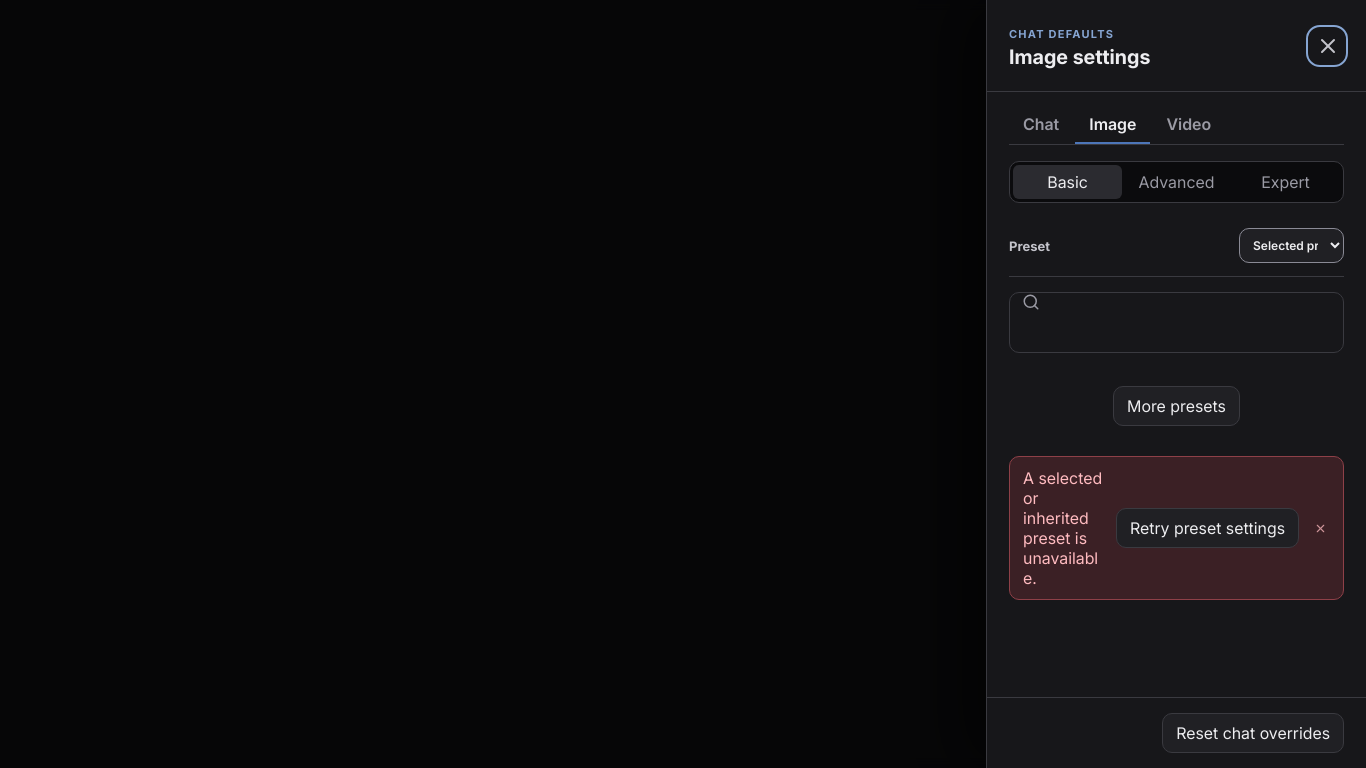
it: retains a missing selection without quietly selecting a default
Check: the text "A selected or inherited preset is unavailable." is shown, box [1023,468,1104,588]
Check: the number field labelled "Steps" is not shown
Select "Inherit · Workspace default" in the dropdown named "image preset" at point(1292, 246), box [1239,228,1344,263]
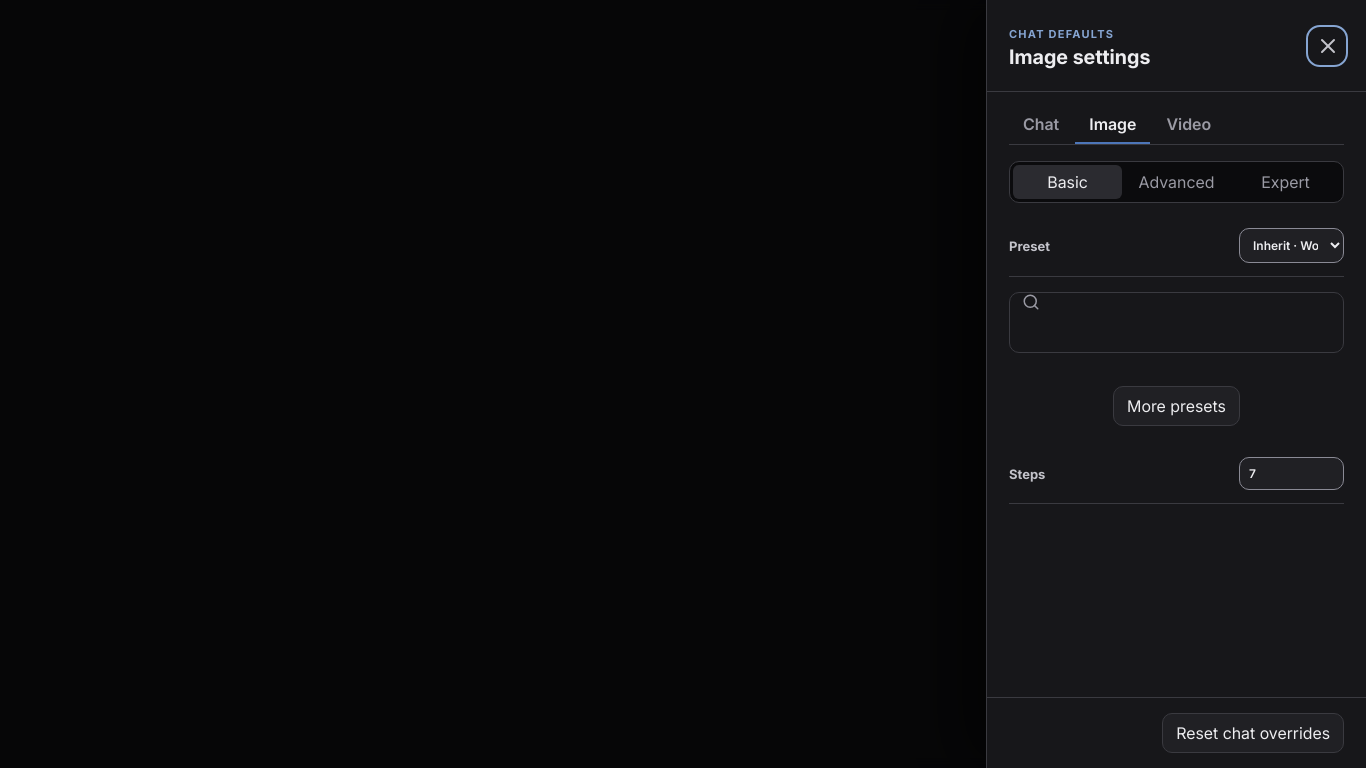
Check: the number field labelled "Steps" holds "7", box [1239,457,1344,490]
